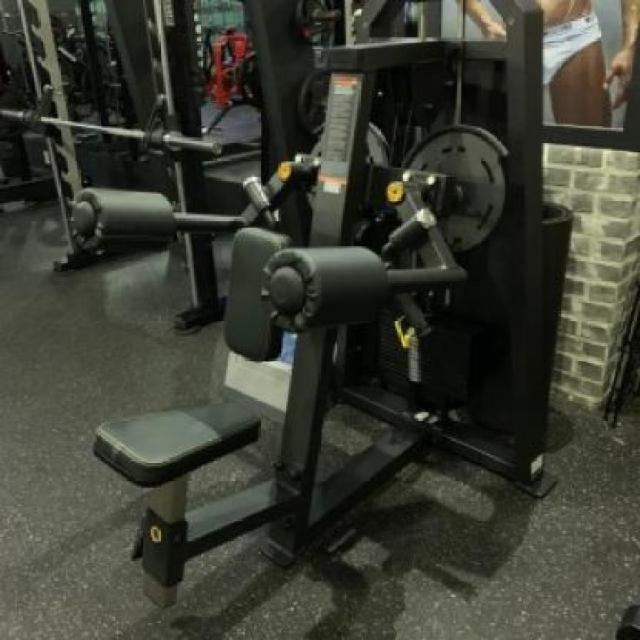lateral raises machine: (69, 177, 469, 611)
